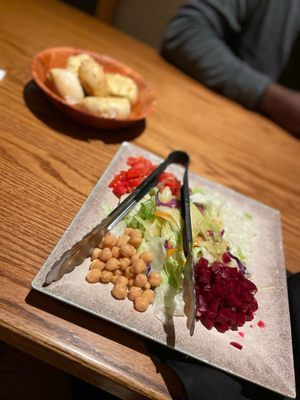burger: (41, 148, 191, 286)
salad: (41, 148, 190, 286)
sushi: (31, 47, 155, 134)
